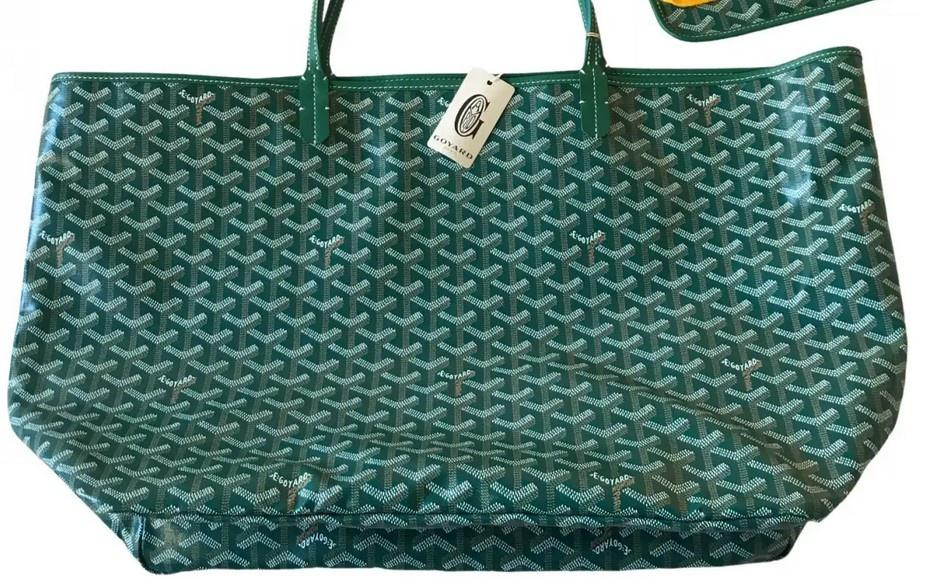GOYARD: (9, 46, 909, 568)
